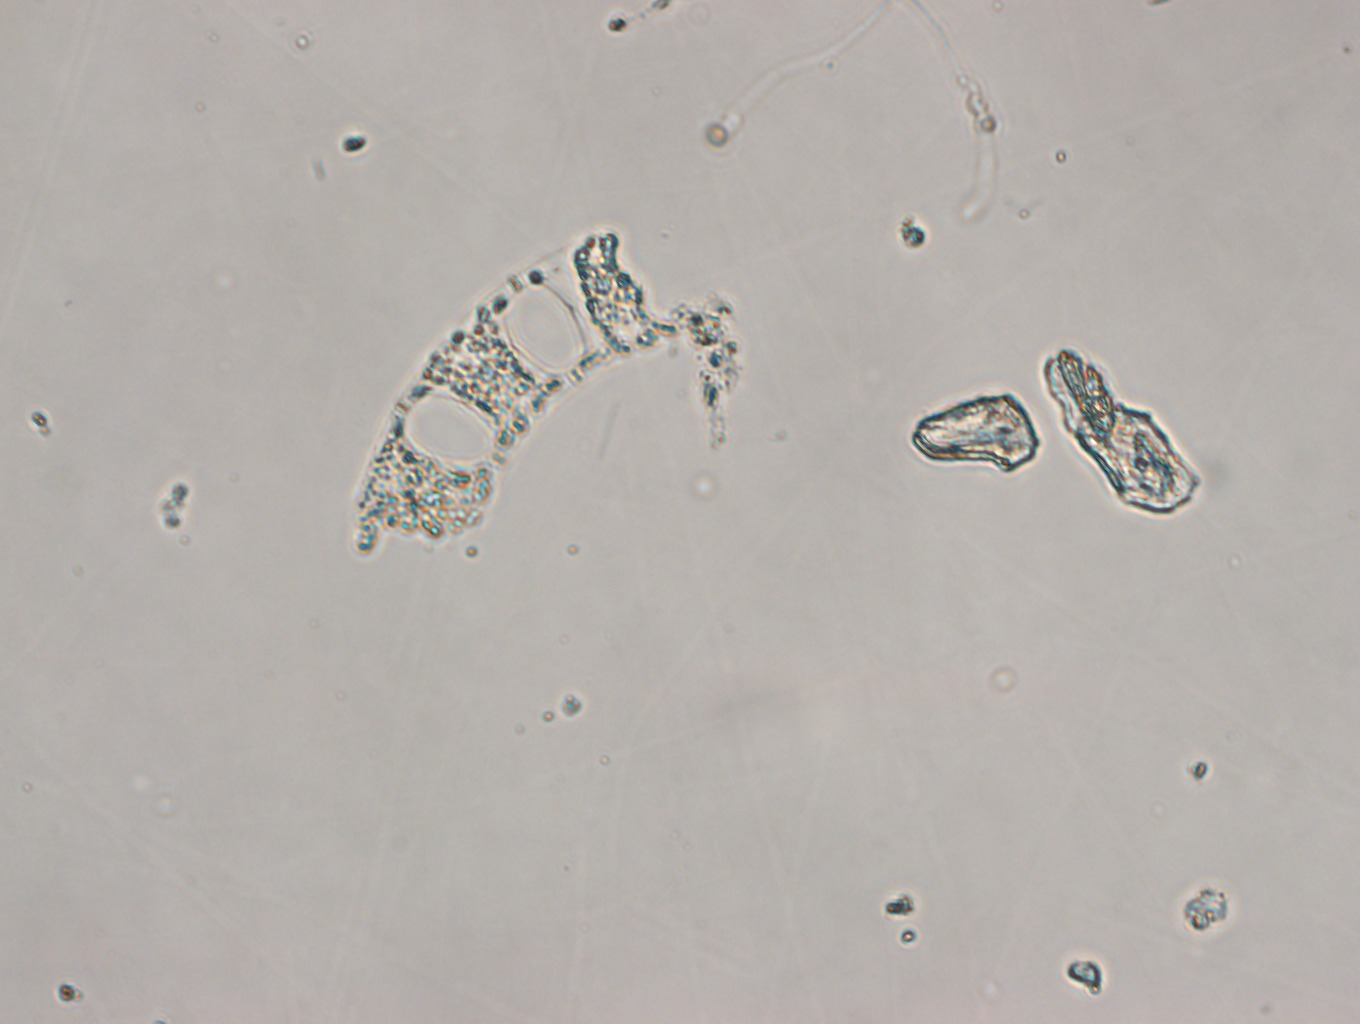eucampia: (344, 227, 663, 556)
